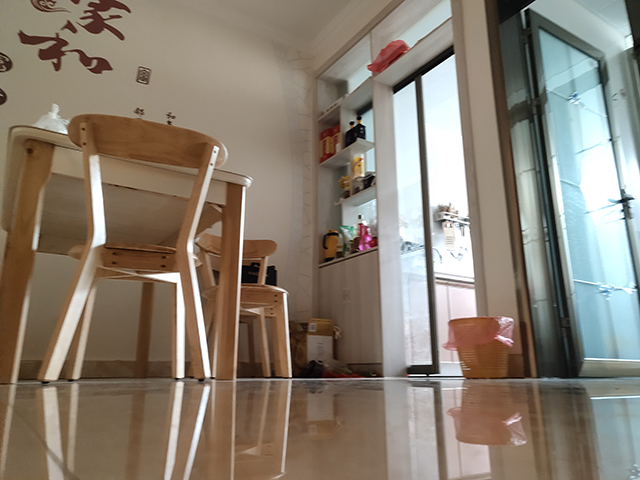cabinet: (312, 245, 409, 379)
stool: (36, 112, 231, 387), (194, 232, 294, 380)
table: (1, 123, 255, 385)
trashcan: (447, 315, 517, 381)
